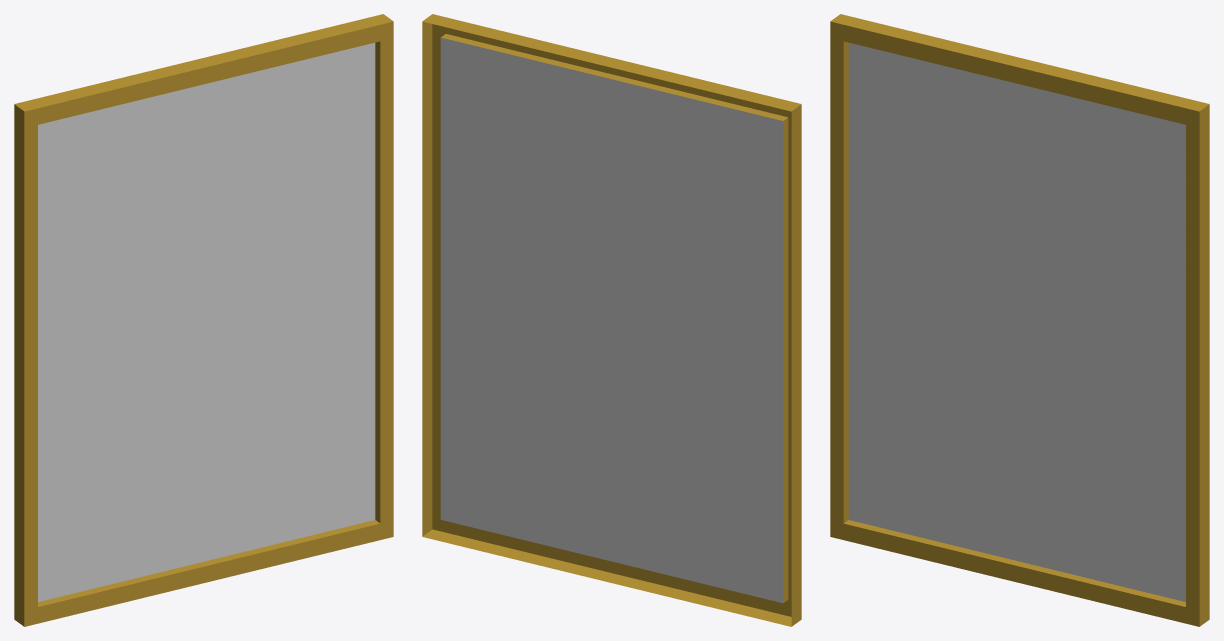
Rendered from frame3.obj.
3 views of the same model, side by side, from view 1: azimuth 30°, elevation 25°; view 2: azimuth 150°, elevation 25°; view 3: azimuth 330°, elevation 25° (orthographic).
Visible parts, largest first — view 1: frame3; view 2: frame3; view 3: frame3.
Boxes of the visible parts, <box> form: frame3: <box>14,14,393,626</box>; frame3: <box>422,14,801,626</box>; frame3: <box>830,14,1209,626</box>.
Bounding box in the file's own units: 0.8512 × 1.14 × 0.041.
